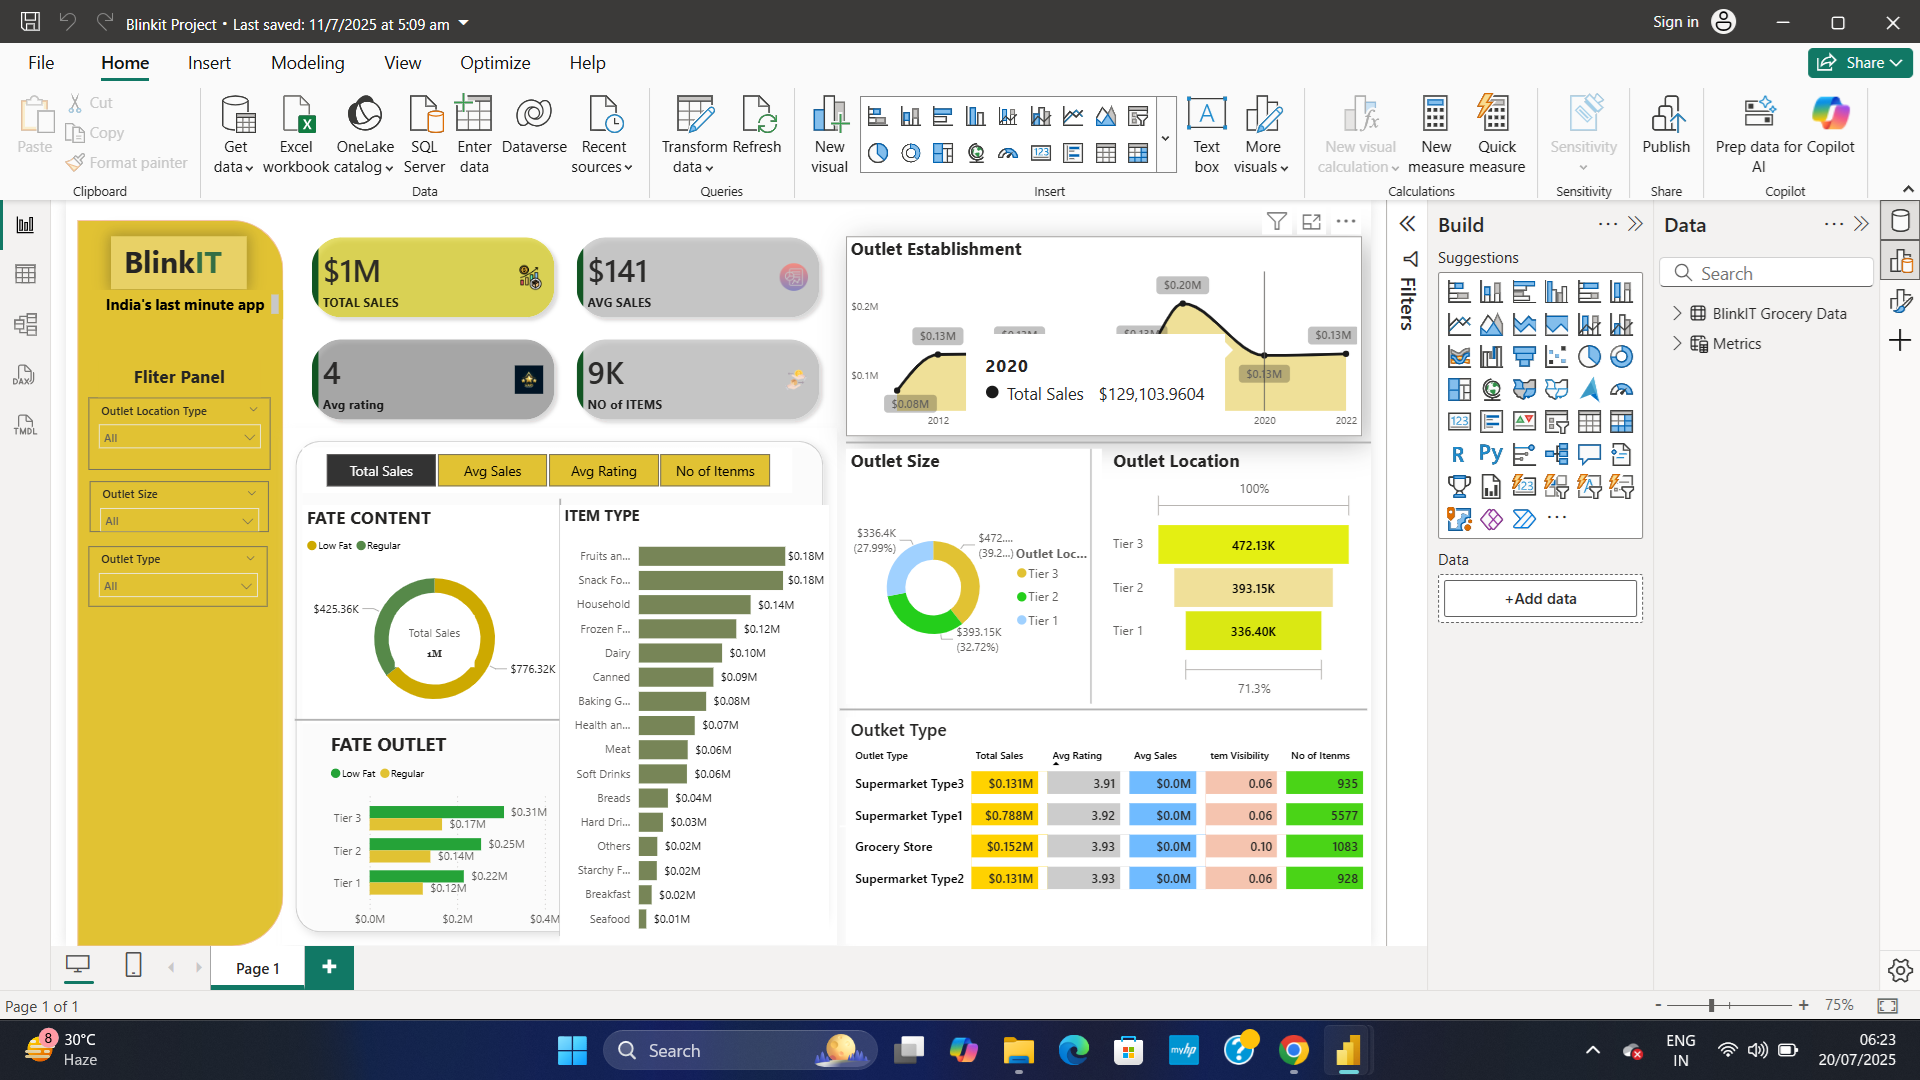

The page's visual inventory and layout, read from the dashboard file:
{"tool":"powerbi","page":{"name":"Page 1","canvas":[1400,800],"ordinal":0},"visuals":[{"type":"shape","box":[12.2,21.1,221.1,778.9],"z":0},{"type":"textbox","box":[48,39,145.6,57],"z":1000},{"type":"textbox","box":[15.6,96.7,216.7,31.1],"z":2000},{"type":"cardVisual","fields":{"Data":["BlinkIT Grocery Data.Total Sales","BlinkIT Grocery Data.Avg Sales","BlinkIT Grocery Data.Avg Rating","BlinkIT Grocery Data.No of Itenms"]},"box":[245.6,21.1,581.1,232.2],"z":3000},{"type":"shape","box":[232.2,244.4,594.4,555.6],"z":4000},{"type":"donutChart","title":"FATE CONTENT","fields":{"Y":["BlinkIT Grocery Data.Total Sales"],"Category":["BlinkIT Grocery Data.Item Fat Content"]},"box":[253.4,327.1,284.2,234.6],"z":5000},{"type":"slicer","fields":{"Values":["Metrics.Metrics"]},"box":[253.3,265.6,525.6,48.9],"z":6000},{"type":"cardVisual","fields":{"Data":["BlinkIT Grocery Data.Total Sales"]},"box":[352.5,445,85.8,56.3],"z":7000},{"type":"clusteredBarChart","title":"FATE OUTLET","fields":{"Y":["BlinkIT Grocery Data.Total Sales"],"Category":["BlinkIT Grocery Data.Outlet Location Type"],"Series":["BlinkIT Grocery Data.Item Fat Content"]},"box":[279.2,570.3,259.6,219.1],"z":8000},{"type":"shape","box":[245.6,540,284.4,34.4],"z":9000},{"type":"shape","box":[516.7,320,27.8,468.9],"z":10000},{"type":"barChart","title":"ITEM TYPE","fields":{"Y":["BlinkIT Grocery Data.Total Sales"],"Category":["BlinkIT Grocery Data.Item Type"]},"box":[530,326.7,288.9,470],"z":11000},{"type":"lineChart","title":"Outlet Establishment ","fields":{"Y":["BlinkIT Grocery Data.Total Sales"],"Category":["BlinkIT Grocery Data.Outlet Establishment Year"]},"box":[836.7,38.9,553.3,214.4],"z":12000},{"type":"shape","box":[836.5,253.4,563,13.4],"z":13000},{"type":"donutChart","title":"Outlet Size","fields":{"Y":["BlinkIT Grocery Data.Total Sales"],"Category":["BlinkIT Grocery Data.Outlet Location Type"]},"box":[836.7,266.7,274.4,273.3],"z":14000},{"type":"shape","box":[1078.9,266.7,40,273.3],"z":15000},{"type":"funnel","title":"Outlet Location","fields":{"Y":["Sum(BlinkIT Grocery Data.Sales)"],"Category":["BlinkIT Grocery Data.Outlet Location Type"]},"box":[1117.8,266.7,267.8,273.3],"z":16000},{"type":"shape","box":[830,554.4,570,233.3],"z":17000},{"type":"shape","box":[830,540,565.6,12.2],"z":18000},{"type":"pivotTable","title":"Outket Type","fields":{"Rows":["BlinkIT Grocery Data.Outlet Type"],"Values":["BlinkIT Grocery Data.Total Sales","BlinkIT Grocery Data.Avg Rating","BlinkIT Grocery Data.Avg Sales","Avg(BlinkIT Grocery Data.Item Visibility)","BlinkIT Grocery Data.No of Itenms"]},"box":[836.7,554.4,563.3,242.2],"z":19000},{"type":"slicer","fields":{"Values":["BlinkIT Grocery Data.Outlet Location Type"]},"box":[24.4,212.2,195.6,77.8],"z":20000},{"type":"slicer","fields":{"Values":["BlinkIT Grocery Data.Outlet Type"]},"box":[24.4,371.1,192.2,64.4],"z":21000},{"type":"slicer","fields":{"Values":["BlinkIT Grocery Data.Outlet Size"]},"box":[25.6,302.2,192.2,54.4],"z":21001},{"type":"textbox","box":[34.4,172.2,173.3,40],"z":21003}]}

Visuals, with their boxes on the page's 1400x800 design canvas (x1, y1, x2, y2). These are canvas units, not pixel positions in the 1920x1080 screenshot, which may show the page scaled, cropped or inside an application window:
shape: <box>12,21,233,800</box>
textbox: <box>48,39,194,96</box>
textbox: <box>16,97,232,128</box>
cardVisual - BlinkIT Grocery Data.Total Sales x BlinkIT Grocery Data.Avg Sales: <box>246,21,827,253</box>
shape: <box>232,244,827,800</box>
"FATE CONTENT" donutChart: <box>253,327,538,562</box>
slicer - Metrics.Metrics: <box>253,266,779,314</box>
cardVisual - BlinkIT Grocery Data.Total Sales: <box>352,445,438,501</box>
"FATE OUTLET" clusteredBarChart: <box>279,570,539,789</box>
shape: <box>246,540,530,574</box>
shape: <box>517,320,544,789</box>
"ITEM TYPE" barChart: <box>530,327,819,797</box>
"Outlet Establishment " lineChart: <box>837,39,1390,253</box>
shape: <box>836,253,1400,267</box>
"Outlet Size" donutChart: <box>837,267,1111,540</box>
shape: <box>1079,267,1119,540</box>
"Outlet Location" funnel: <box>1118,267,1386,540</box>
shape: <box>830,554,1400,788</box>
shape: <box>830,540,1396,552</box>
"Outket Type" pivotTable: <box>837,554,1400,797</box>
slicer - BlinkIT Grocery Data.Outlet Location Type: <box>24,212,220,290</box>
slicer - BlinkIT Grocery Data.Outlet Type: <box>24,371,217,436</box>
slicer - BlinkIT Grocery Data.Outlet Size: <box>26,302,218,357</box>
textbox: <box>34,172,208,212</box>
